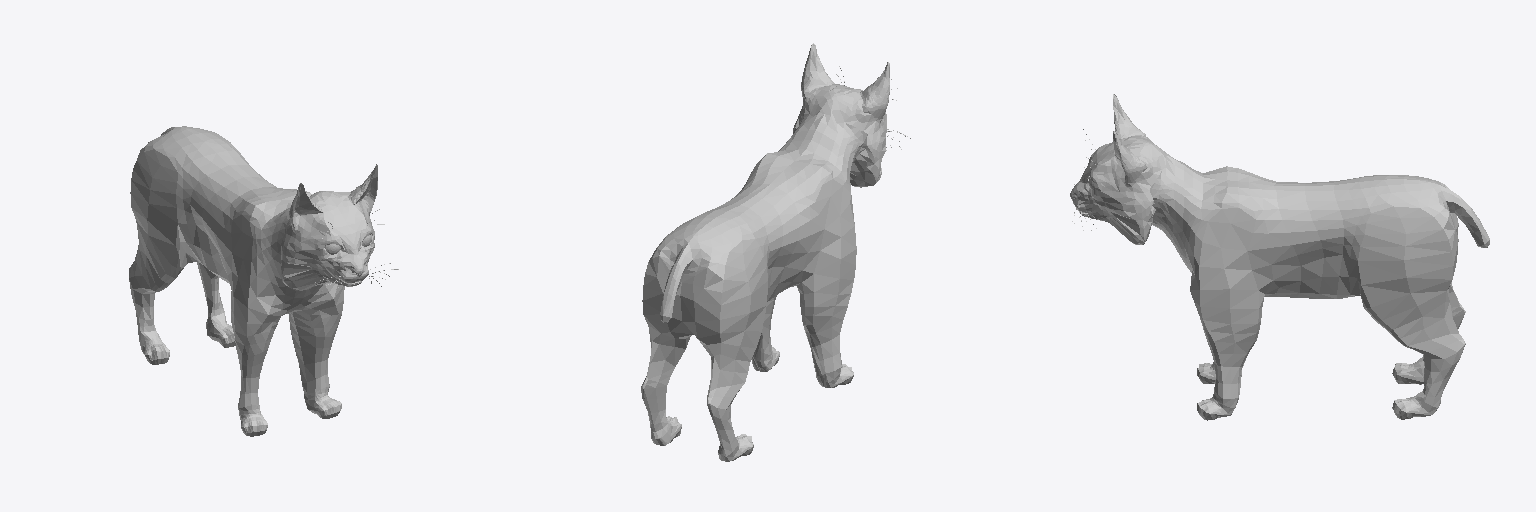
The model's file is BOBCAT.OBJ.
3 views of the same model, side by side, from view 1: azimuth 30°, elevation 25°; view 2: azimuth 150°, elevation 25°; view 3: azimuth 270°, elevation 25° (orthographic).
Parts seen in each view (by area): view 1: bob_body; view 2: bob_body; view 3: bob_body.
Part boxes in pixels (left/top/right/bottom): bob_body: left=129, top=126, right=377, bottom=436; bob_body: left=641, top=43, right=889, bottom=461; bob_body: left=1070, top=94, right=1489, bottom=420.
Bounding box in the file's own units: 0.1294 × 0.3545 × 0.4714.